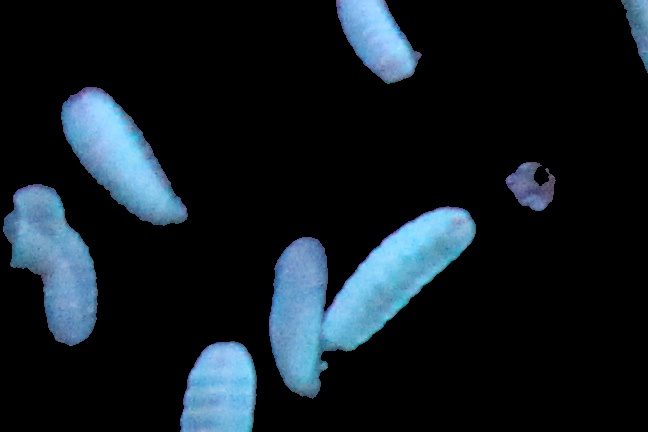larvae: (316, 207, 482, 353), (54, 76, 180, 242), (7, 188, 98, 348), (269, 237, 327, 398), (336, 1, 420, 84), (184, 339, 257, 431)
